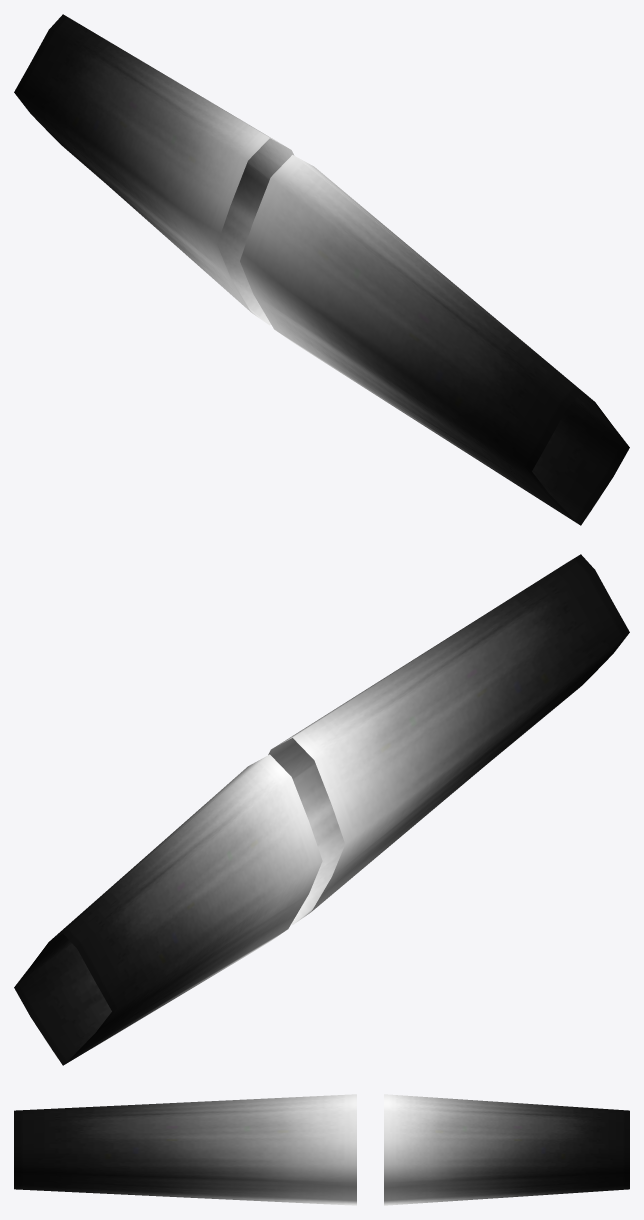
The model's file is zhufudatianshichangmao002.fbx.
3 views of the same model, one above another, from view 1: azimuth 30°, elevation 25°; view 2: azimuth 150°, elevation 25°; view 3: azimuth 270°, elevation 25° (orthographic). The views are drawn at different scales.
Parts seen in each view (by area): view 1: zhufudatianshichangmao002; view 2: zhufudatianshichangmao002; view 3: zhufudatianshichangmao002.
Part boxes in pixels (x1=…): zhufudatianshichangmao002: x1=14, y1=14, x2=629, y2=525; zhufudatianshichangmao002: x1=14, y1=554, x2=629, y2=1065; zhufudatianshichangmao002: x1=14, y1=1094, x2=629, y2=1205.
Size of the model in its own units: 59.79 by 102 by 508.
